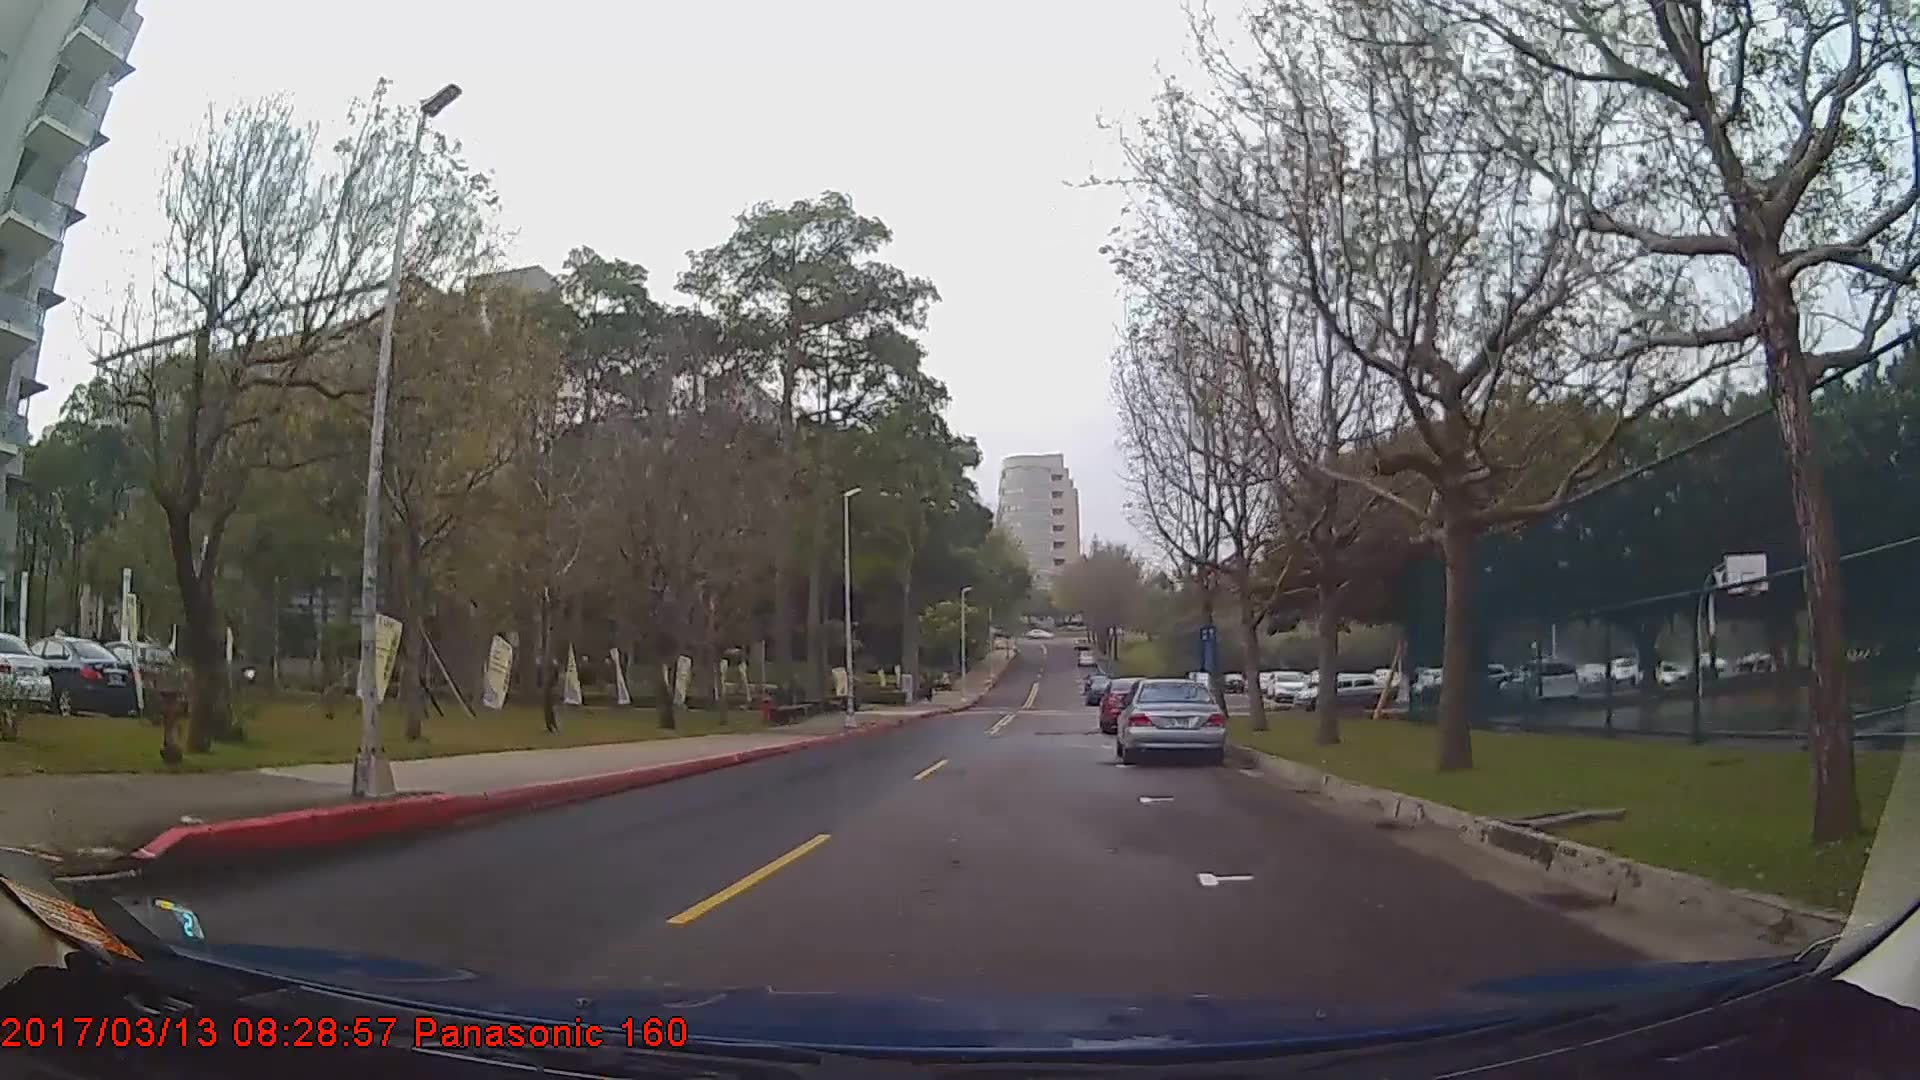vehicle: (11, 634, 135, 719), (1116, 678, 1225, 767), (83, 640, 177, 708), (1291, 669, 1396, 712), (0, 630, 54, 715), (1083, 679, 1120, 707)
